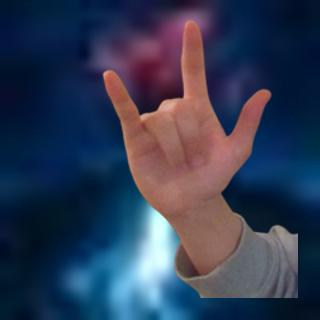ILY: (98, 15, 275, 220)
